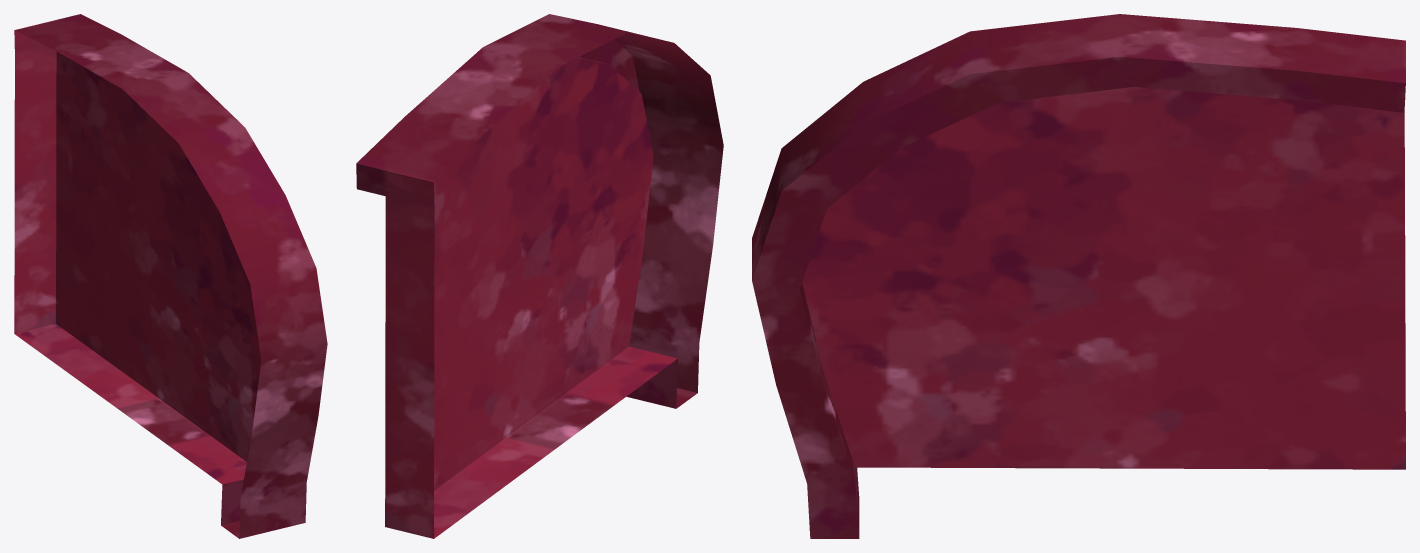
Rendered from techo final 1.fbx.
3 renders of one model, left to right at view 1: azimuth 30°, elevation 25°; view 2: azimuth 150°, elevation 25°; view 3: azimuth 270°, elevation 25°, orthographic. The views are drawn at different scales.
Visible parts, largest first — view 1: Cube.116; view 2: Cube.116; view 3: Cube.116.
Boxes of the visible parts, x1,y1,x2,y2 form: Cube.116: [14, 14, 327, 538]; Cube.116: [356, 14, 723, 538]; Cube.116: [752, 14, 1405, 538].
Size of the model in its own units: 42.92 by 225 by 277.
